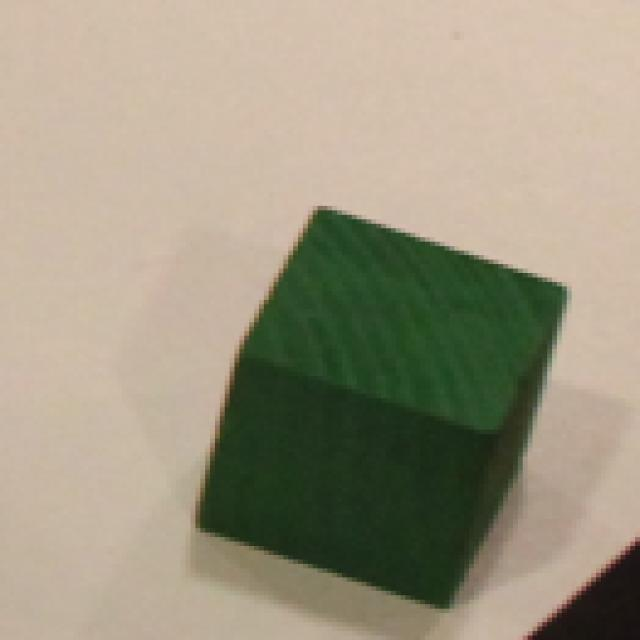green cube: (202, 200, 570, 605)
